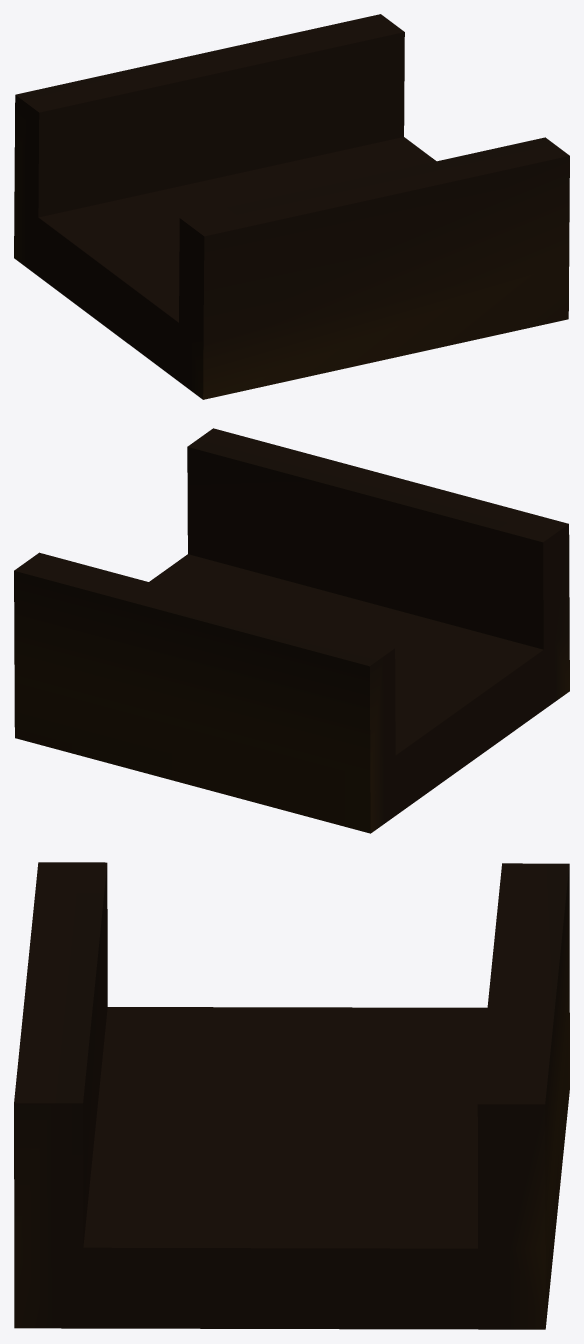
Rendered from Cannon base only.fbx.
3 renders of one model, top to bottom at view 1: azimuth 30°, elevation 25°; view 2: azimuth 150°, elevation 25°; view 3: azimuth 270°, elevation 25°, orthographic. The views are drawn at different scales.
Parts seen in each view (by area): view 1: Top Level Cannon 3; view 2: Top Level Cannon 3; view 3: Top Level Cannon 3.
Boxes of the visible parts, bbox=[...] form: Top Level Cannon 3: bbox=[14, 14, 569, 399]; Top Level Cannon 3: bbox=[14, 428, 569, 833]; Top Level Cannon 3: bbox=[14, 862, 569, 1329].
Bounding box in the file's own units: 147 × 63.99 × 142.
